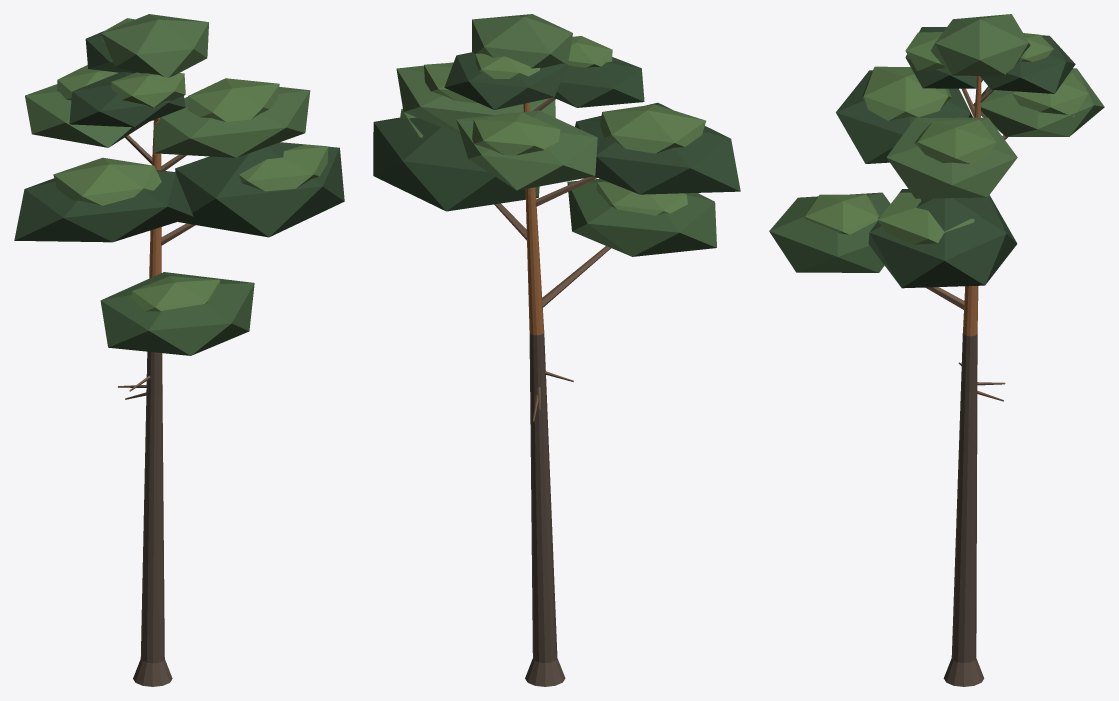
The model's file is pine_a.glb.
3 renders of one model, left to right at view 1: azimuth 30°, elevation 25°; view 2: azimuth 150°, elevation 25°; view 3: azimuth 270°, elevation 25°, orthographic. The views are drawn at different scales.
Visible parts, largest first — view 1: pine_a; view 2: pine_a; view 3: pine_a.
Boxes of the visible parts, left/top/right/bottom form: pine_a: left=14, top=14, right=344, bottom=686; pine_a: left=373, top=14, right=740, bottom=686; pine_a: left=769, top=14, right=1104, bottom=686.
Size of the model in its own units: 9.86 by 17.89 by 8.18.
